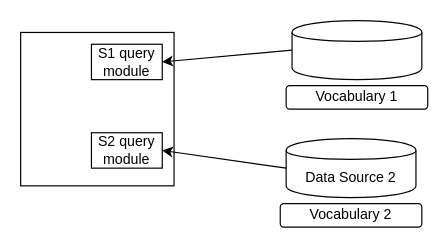
The diagram is 448 pixels wide and 248 high, and some of its shapes have lost their labels. Each missing label, with the box of its shape:
Data Source 1: (291, 19, 422, 80)
Integration within the application: (19, 31, 174, 186)
